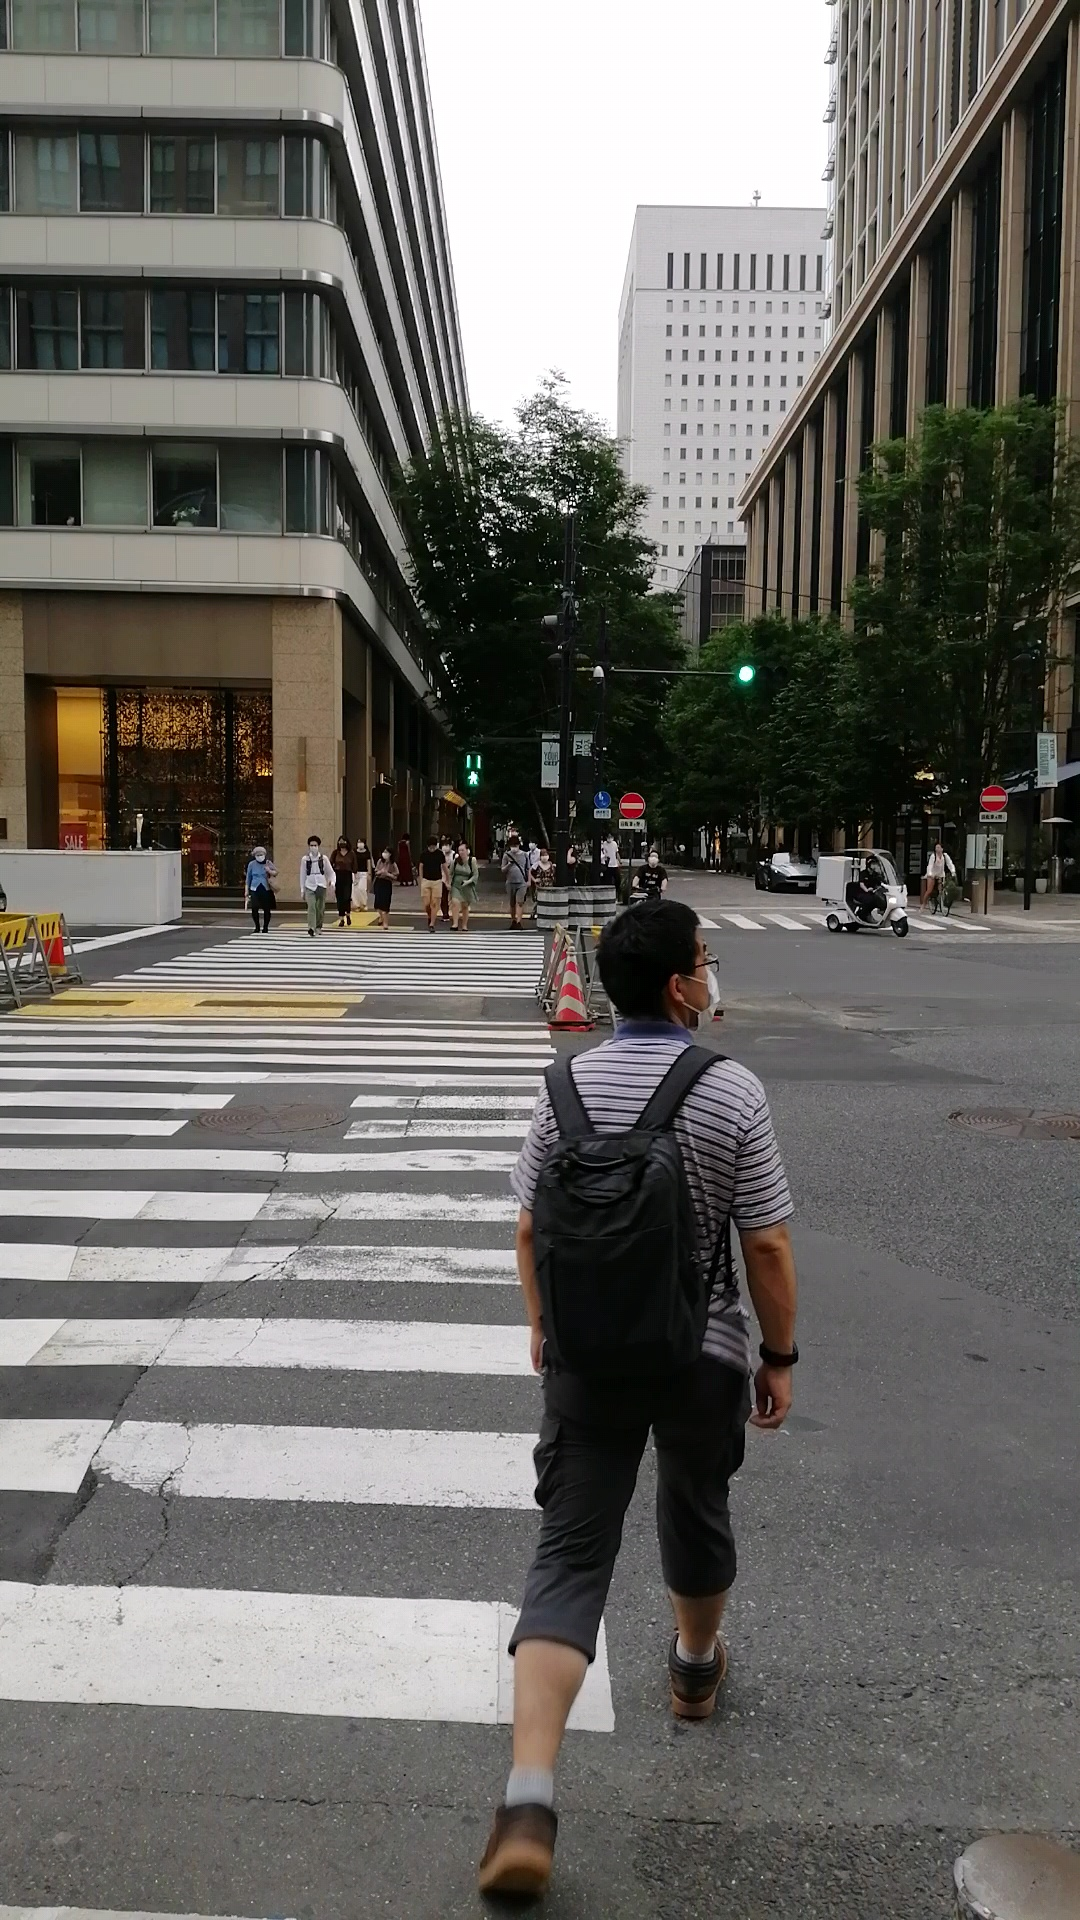green: (462, 748, 485, 793)
